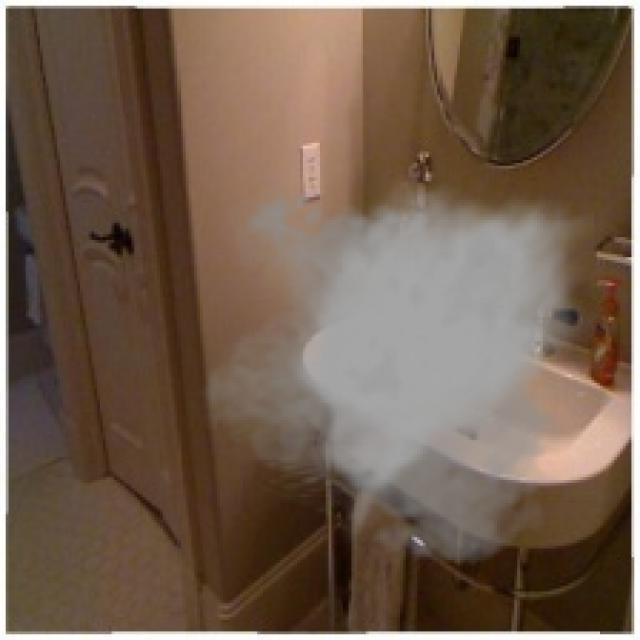Smoke: (202, 180, 594, 569)
